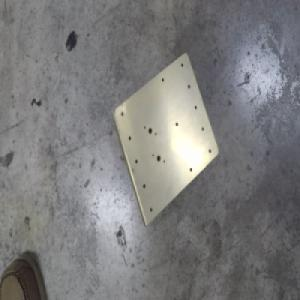MetalSheet: (109, 49, 219, 229)
